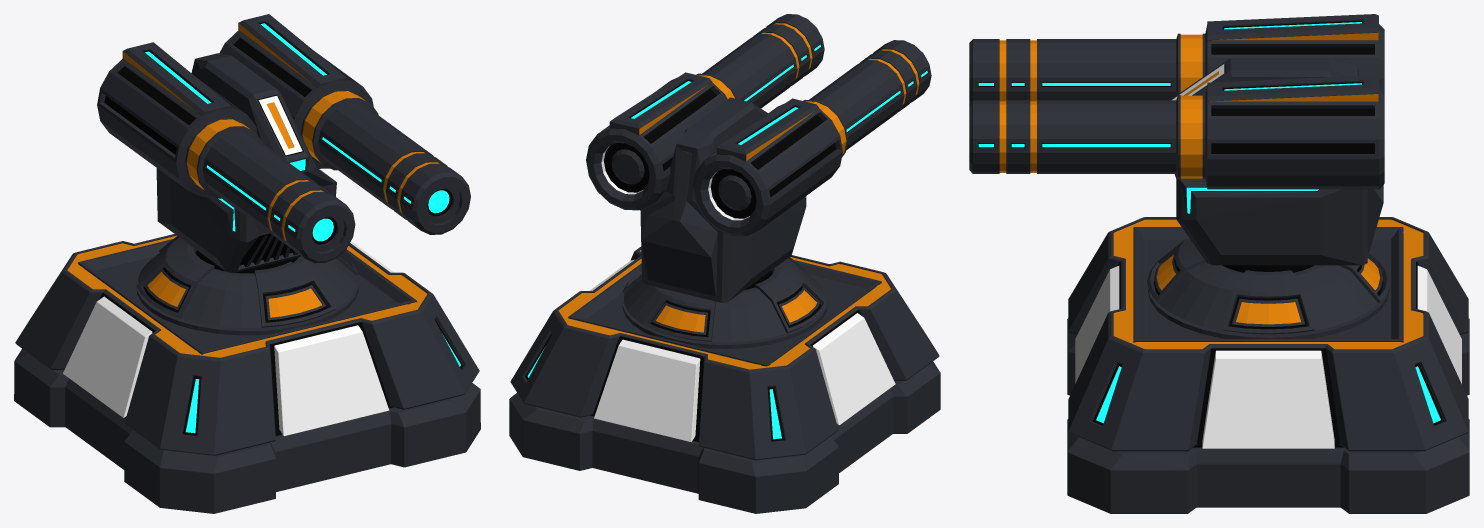
Rendered from SM_Turret_TwinBarrel.fbx.
3 renders of one model, left to right at view 1: azimuth 30°, elevation 25°; view 2: azimuth 150°, elevation 25°; view 3: azimuth 270°, elevation 25°, orthographic. The views are drawn at different scales.
Visible parts, largest first — view 1: SM_Turret_TwinBarrel_Base, SM_Turret_TwinBarrel_Weapon; view 2: SM_Turret_TwinBarrel_Base, SM_Turret_TwinBarrel_Weapon; view 3: SM_Turret_TwinBarrel_Weapon, SM_Turret_TwinBarrel_Base.
Part boxes in pixels (box(x1,y1,x2,y2)): SM_Turret_TwinBarrel_Base: box(14, 234, 480, 513); SM_Turret_TwinBarrel_Weapon: box(97, 14, 470, 335); SM_Turret_TwinBarrel_Base: box(509, 246, 940, 513); SM_Turret_TwinBarrel_Weapon: box(586, 14, 931, 348); SM_Turret_TwinBarrel_Weapon: box(969, 14, 1389, 338); SM_Turret_TwinBarrel_Base: box(1067, 217, 1469, 513).
Bounding box in the file's own units: 100 × 104 × 124.
